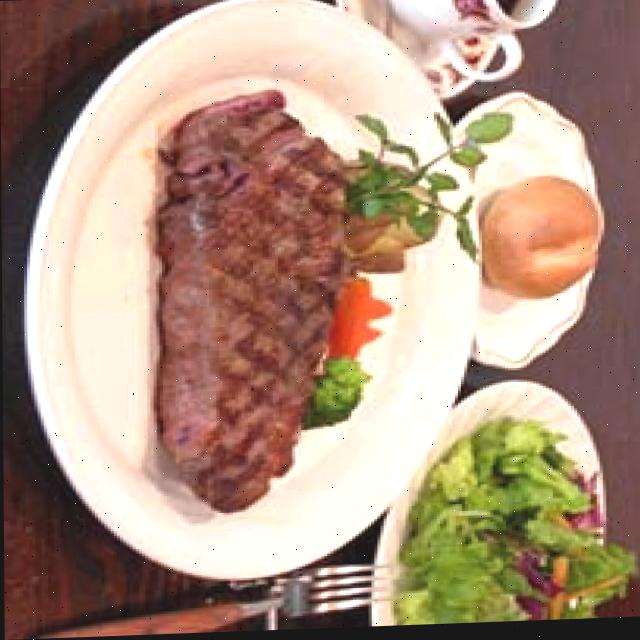牛肉菜式: (135, 73, 386, 519)
